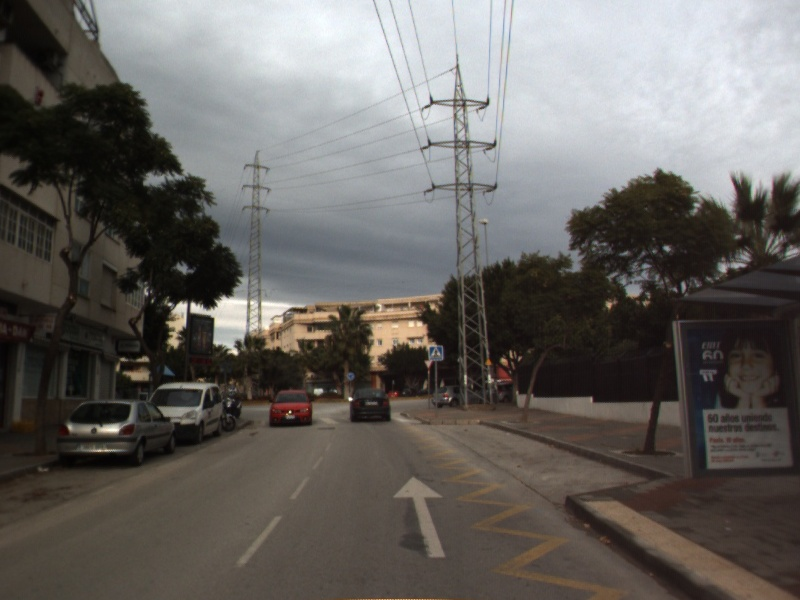STRAIGHT: (390, 473, 450, 560)
